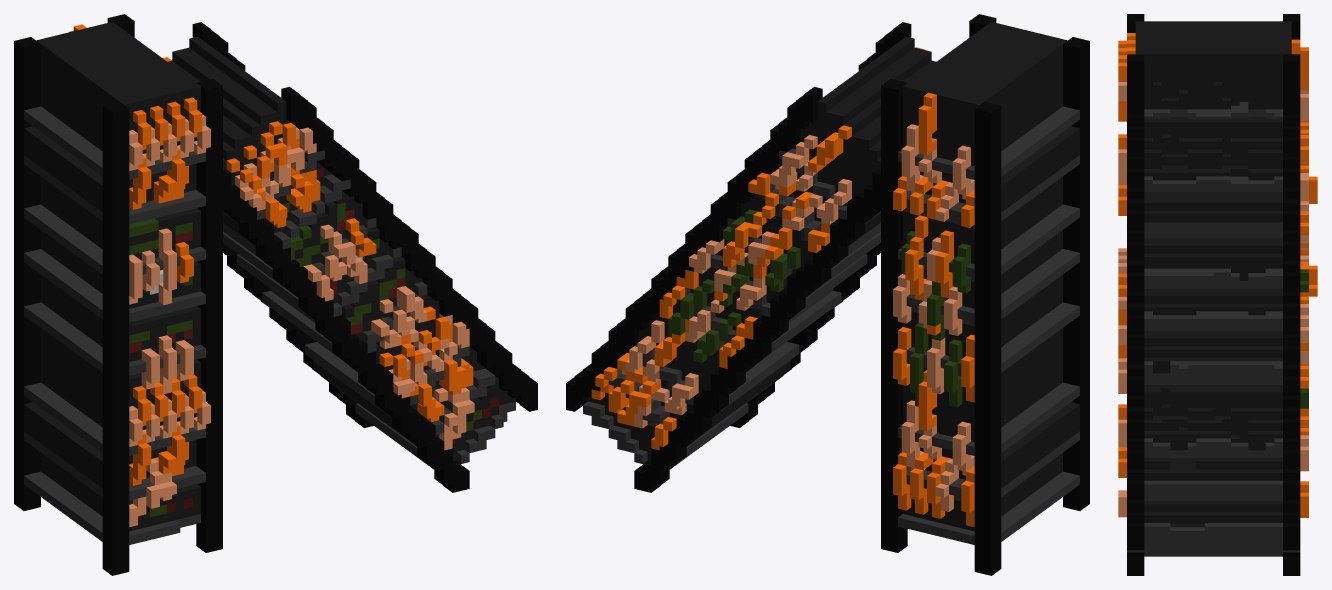
Rendered from server_3.obj.
The picture shows the model from 3 angles, left to right: view 1: azimuth 30°, elevation 25°; view 2: azimuth 150°, elevation 25°; view 3: azimuth 270°, elevation 25°; orthographic projection. The views are drawn at different scales.
Bounding box in the file's own units: 5 × 5.2 × 2.3.
1 material, 1 textured.
